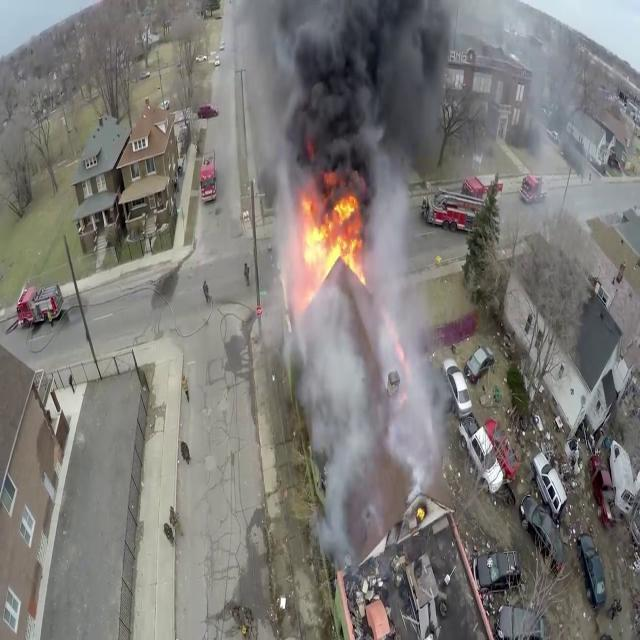Fire: (292, 178, 371, 298)
Smoke: (264, 202, 462, 574), (217, 0, 459, 191)
